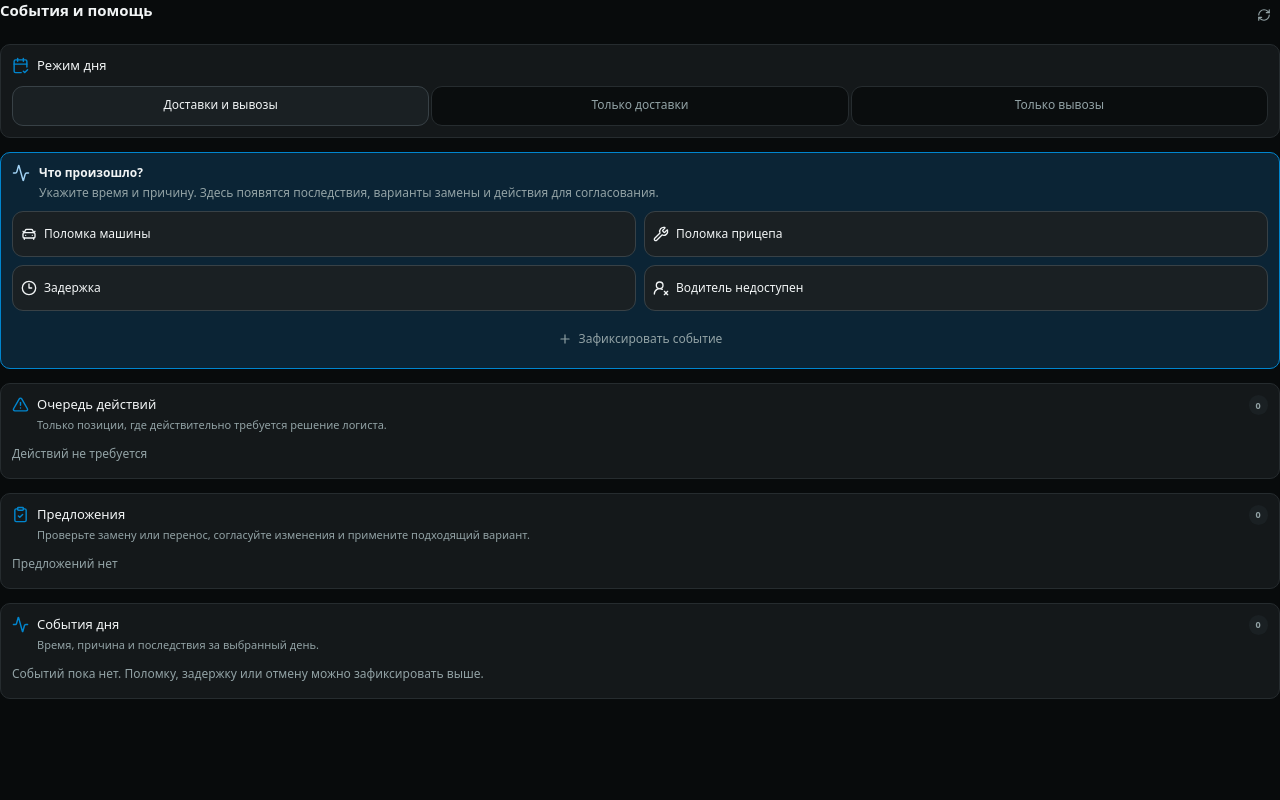
day mode and conflict projection › uses the exact current plan fence and renders affected customer facts after a real conflict
Click the button "Только вывозы". click: coordinates (1059, 106)
box: [851,86,1268,126]
(page scrolled)
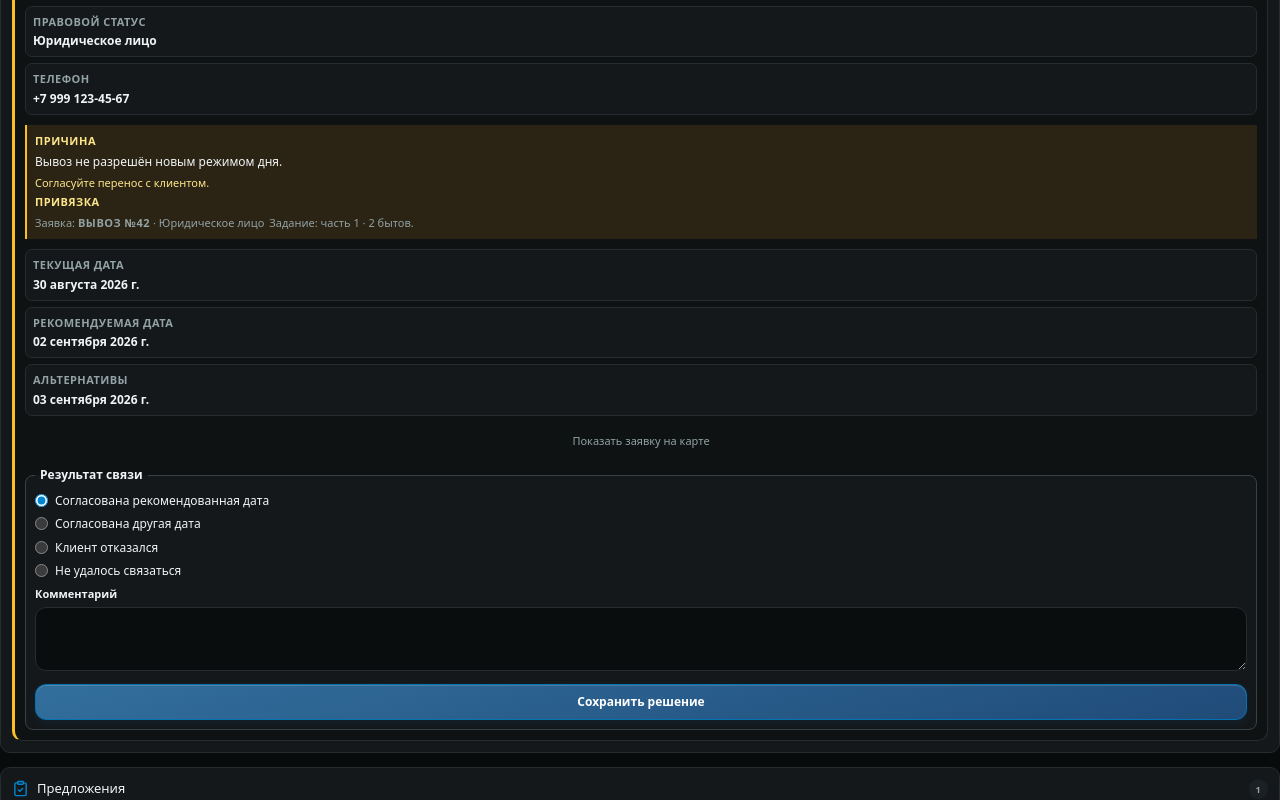
Expected: the text "Юридическое лицо" is shown, [33,32,157,49]
Expected: the text "+7 999 123-45-67" is shown, [33,90,129,107]
Expected: the number of radio buttons labelled "Клиент отказался" is 1, [35,540,48,554]
